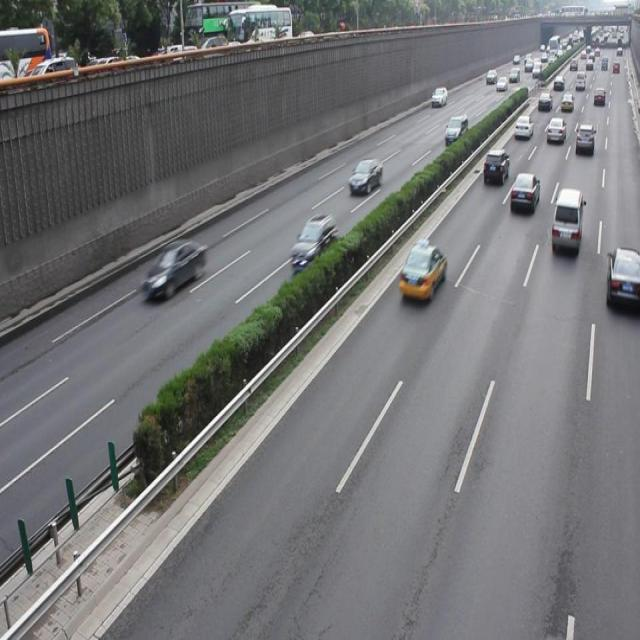car: (141, 238, 206, 302), (289, 213, 338, 273), (398, 241, 446, 301), (604, 246, 640, 311), (347, 156, 382, 194), (509, 171, 538, 212), (481, 147, 508, 185)
truck: (550, 187, 582, 250)
